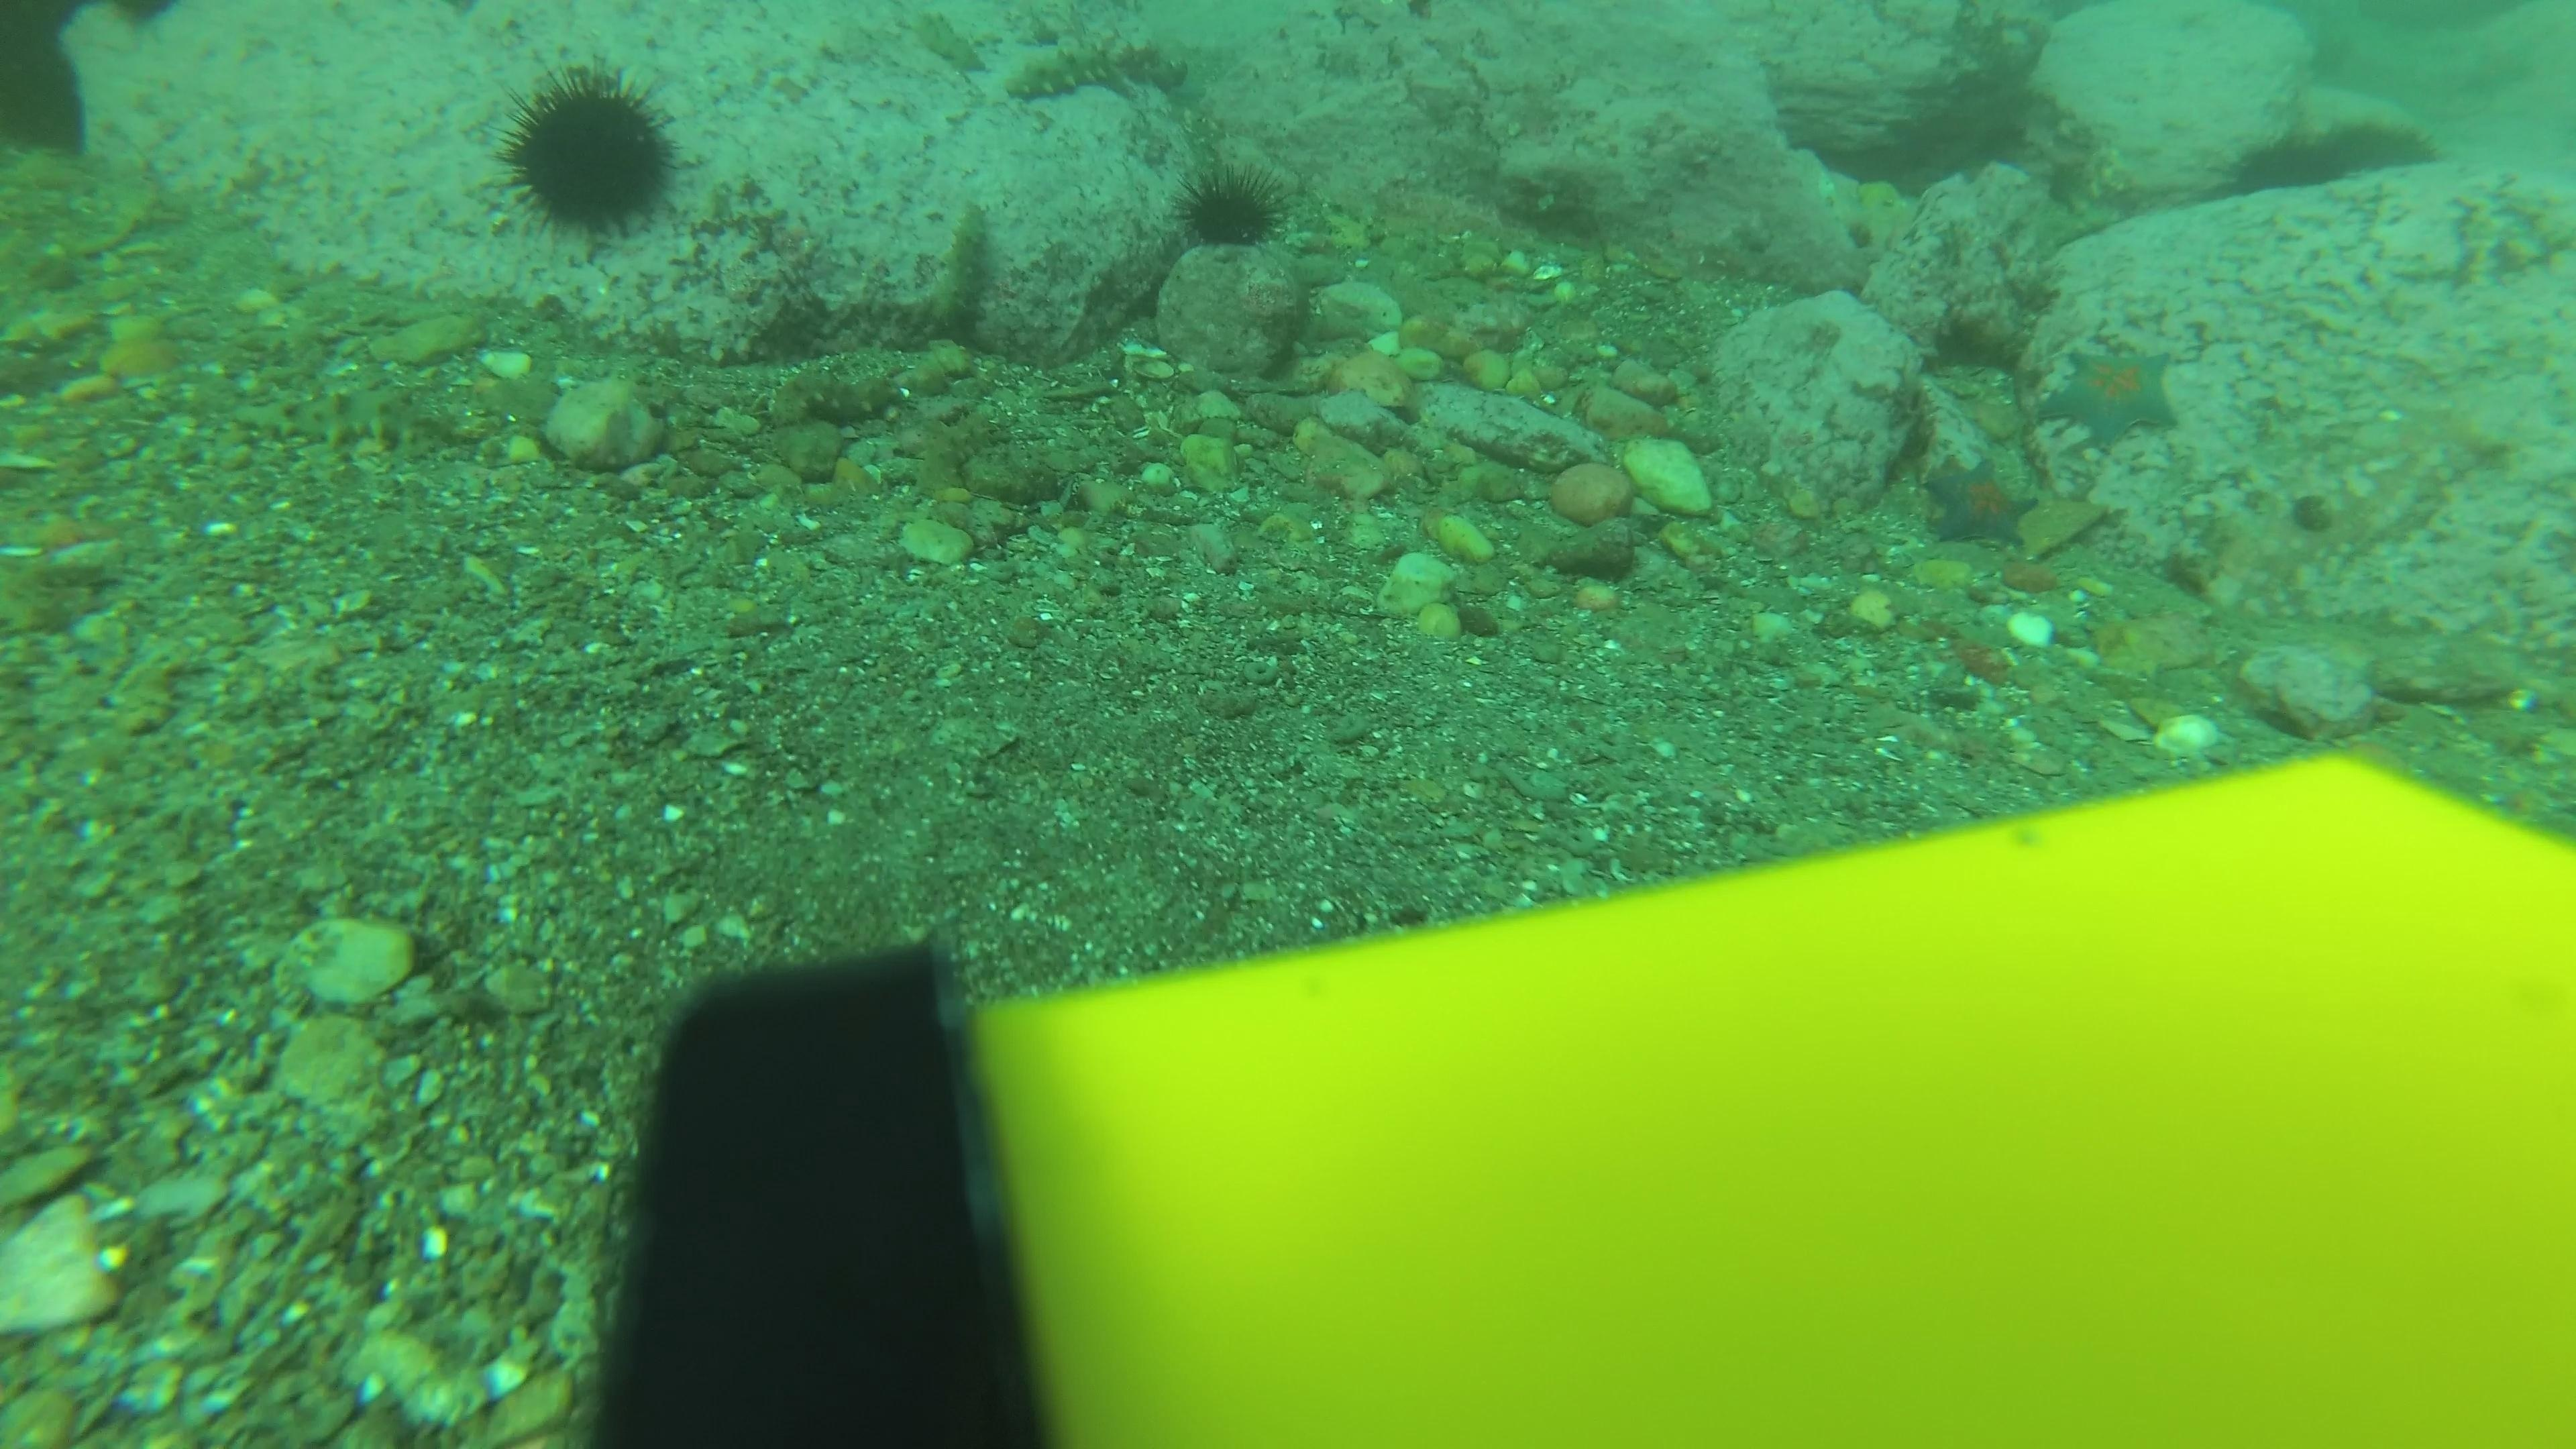echinus: (488, 60, 688, 246), (2224, 108, 2431, 200), (1177, 161, 1284, 253)
holothurian: (249, 373, 504, 472), (855, 182, 1005, 345), (722, 347, 941, 435), (1003, 28, 1194, 106), (916, 403, 996, 508)
starfish: (2038, 336, 2187, 449), (1918, 449, 2042, 550)
